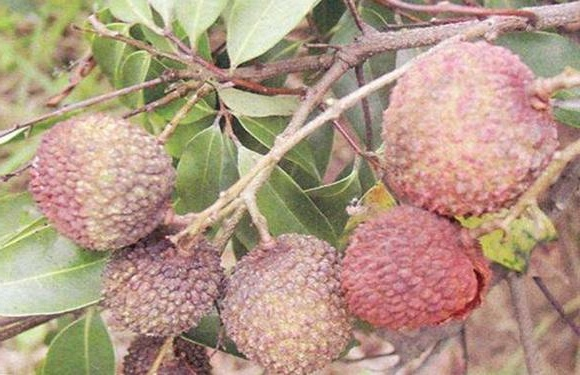Frost_Blight: (355, 32, 562, 306), (110, 217, 347, 365), (51, 88, 181, 226)
